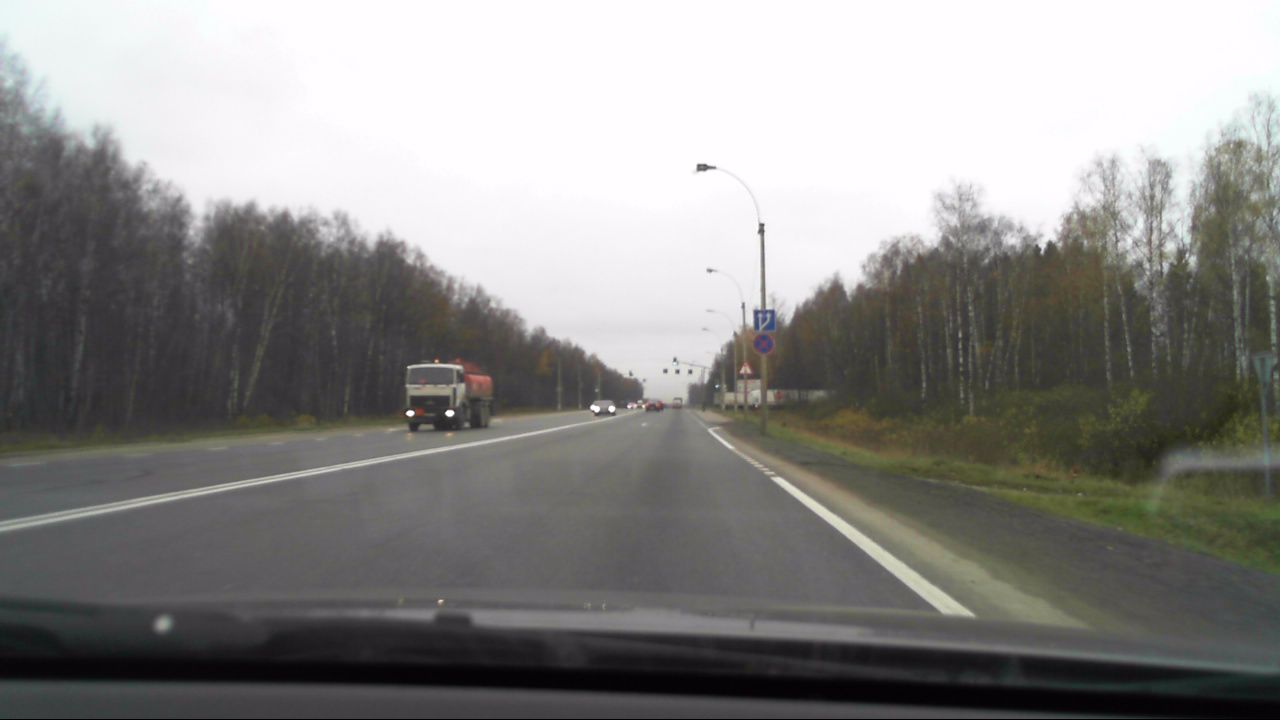No Parking: (753, 331, 775, 354)
